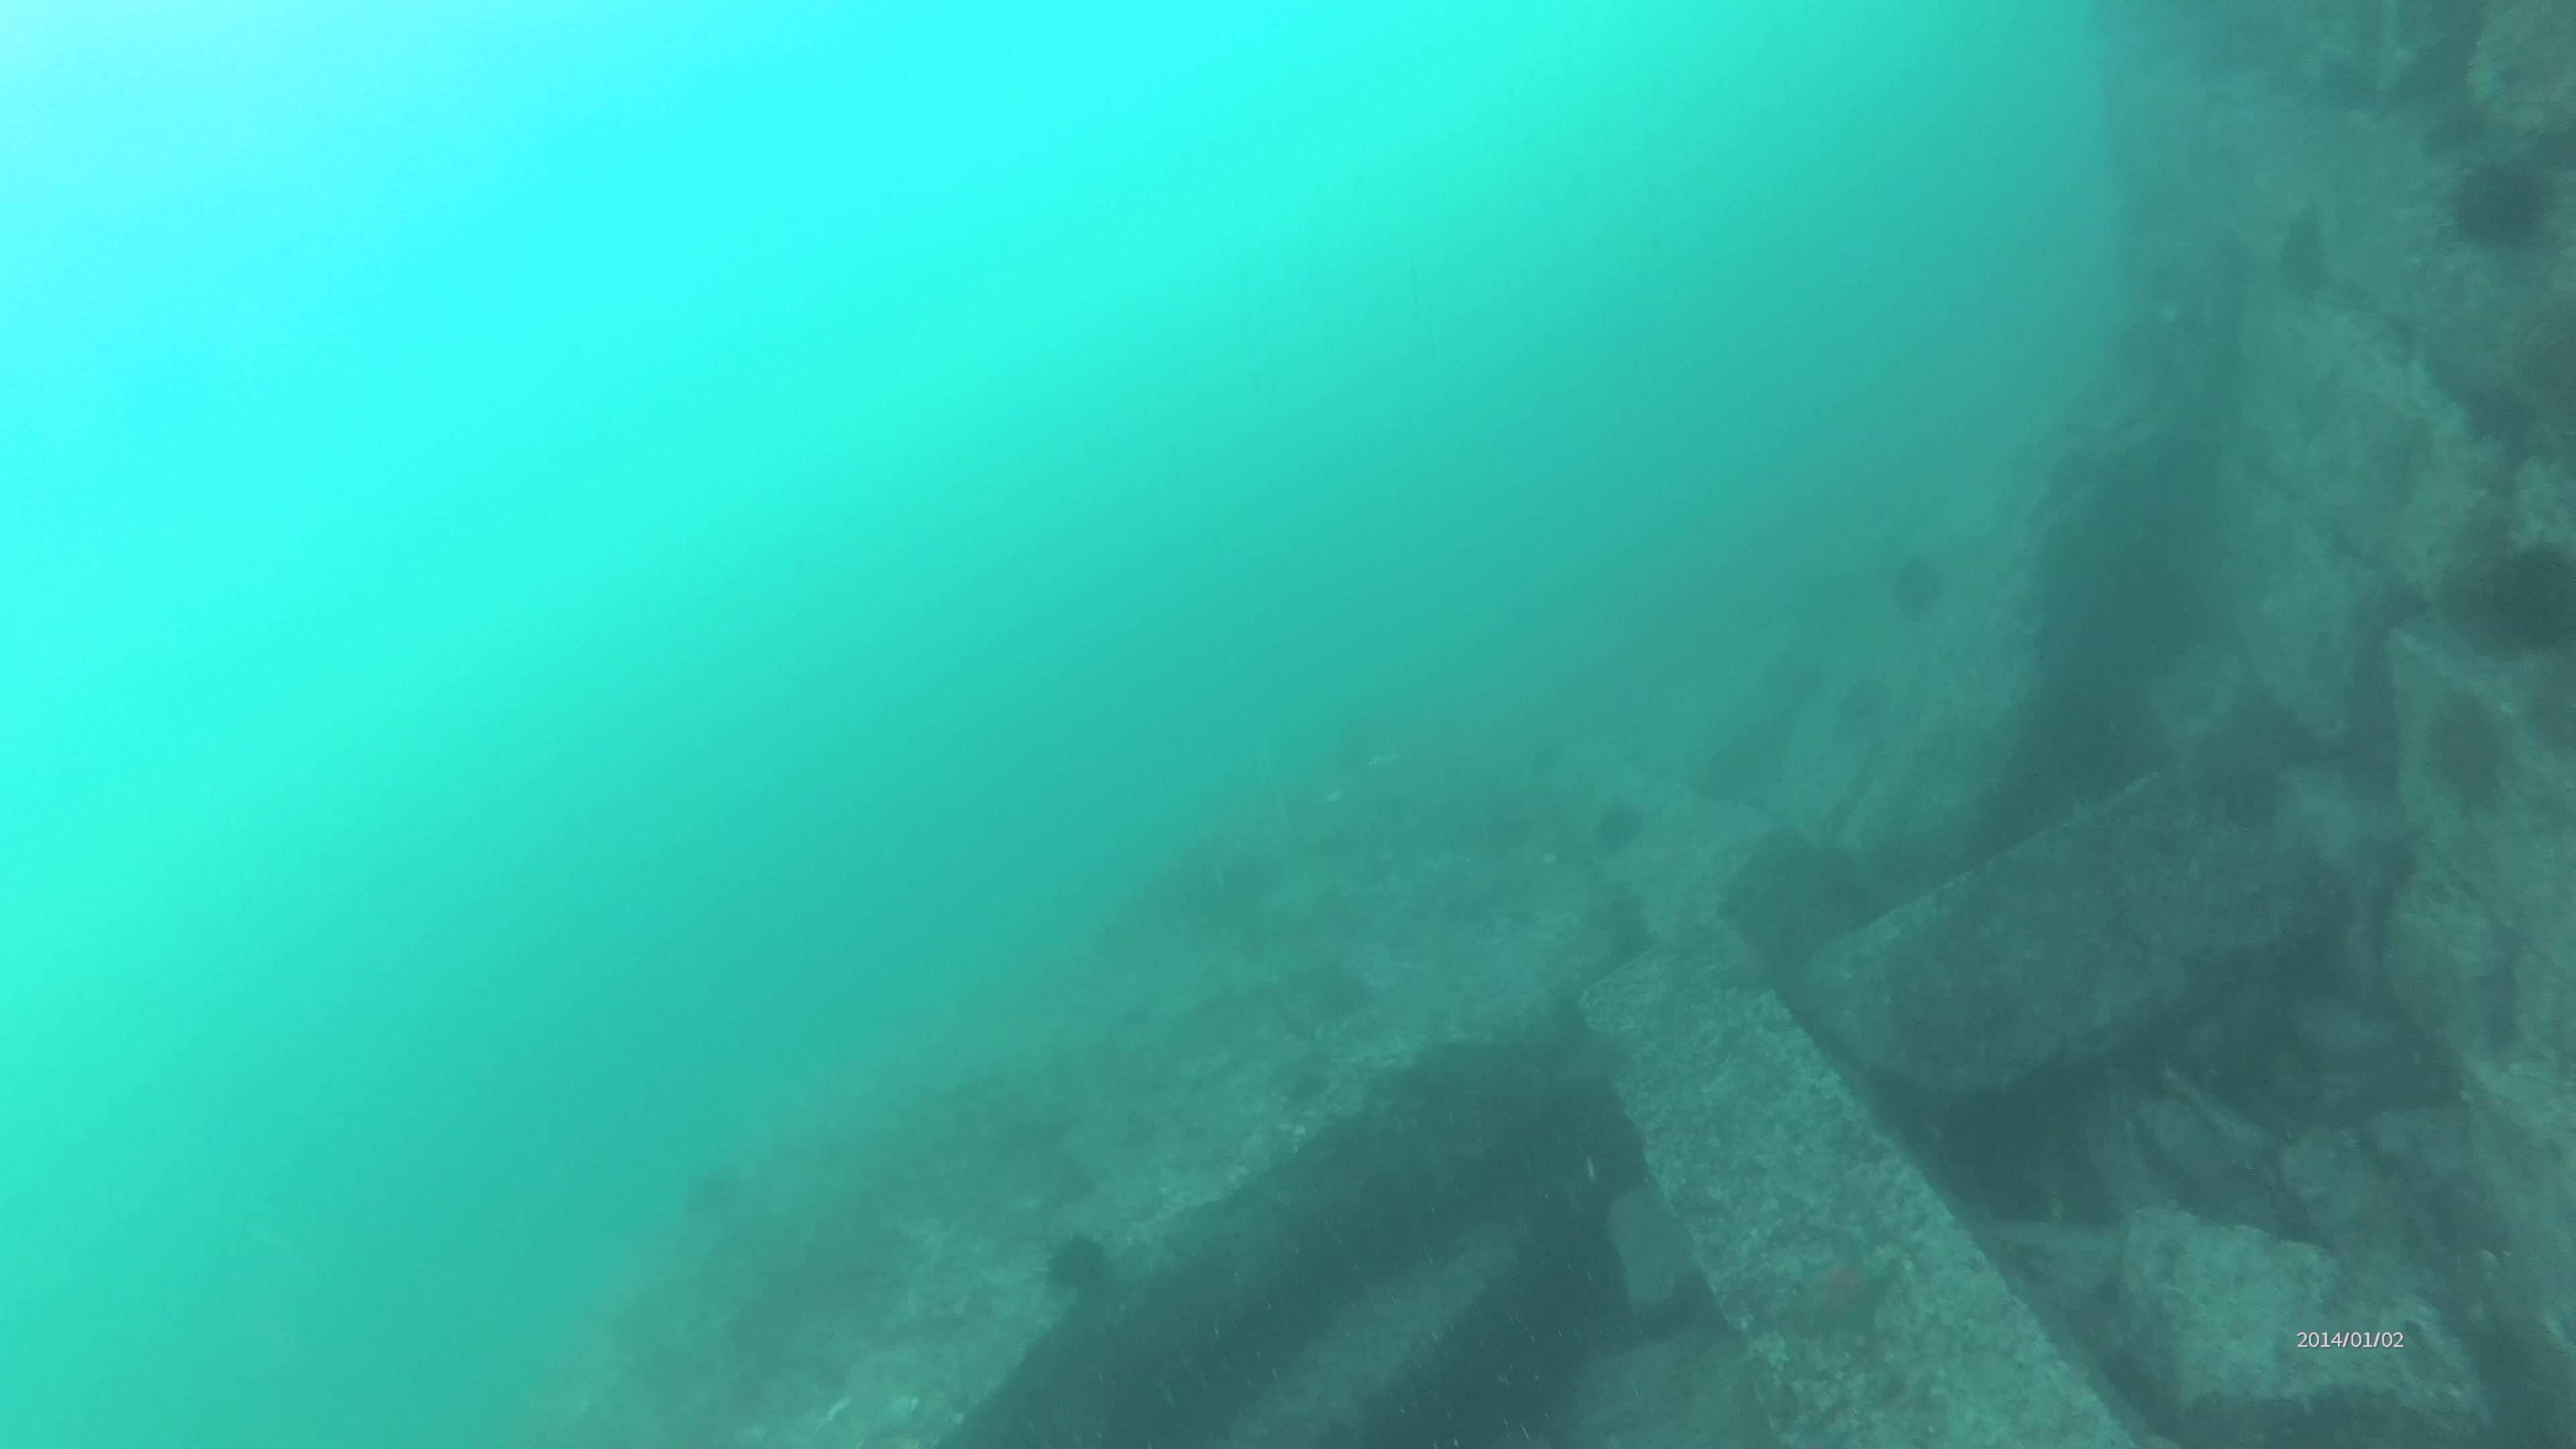echinus: (2465, 550, 2574, 640), (2443, 165, 2546, 242), (1874, 550, 1939, 619), (1040, 1230, 1106, 1292), (1580, 801, 1651, 847)
starfish: (1753, 1244, 1904, 1336)
